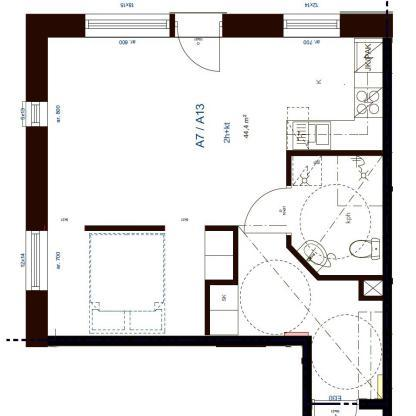bathroom: (288, 148, 386, 278)
door: (172, 8, 230, 78), (234, 185, 298, 236)
perimeter: (26, 14, 390, 406)
window: (81, 8, 174, 44), (22, 227, 52, 298), (280, 12, 344, 44), (18, 98, 53, 131)
